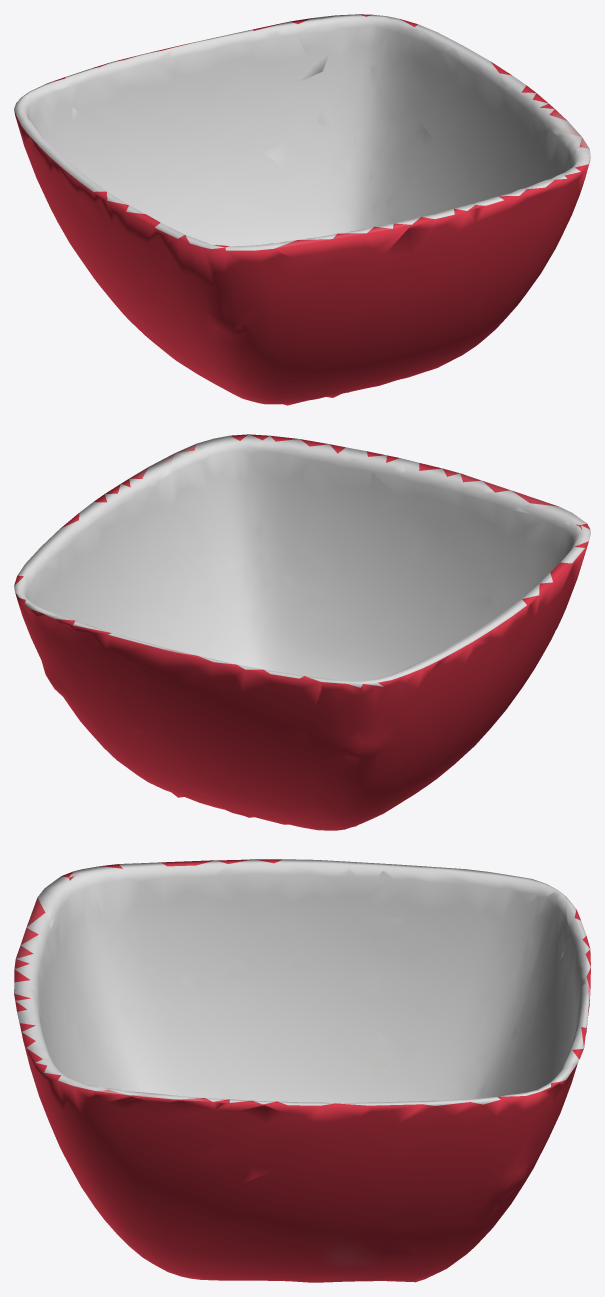
File: EdekaRedBowl.dae
3 views of the same model, one above another, from view 1: azimuth 30°, elevation 25°; view 2: azimuth 150°, elevation 25°; view 3: azimuth 270°, elevation 25° (orthographic). The views are drawn at different scales.
Parts seen in each view (by area): view 1: Scan_PIVOT; view 2: Scan_PIVOT; view 3: Scan_PIVOT.
Part boxes in pixels (x1=…): Scan_PIVOT: x1=14, y1=14, x2=590, y2=405; Scan_PIVOT: x1=14, y1=434, x2=590, y2=830; Scan_PIVOT: x1=14, y1=859, x2=590, y2=1282.
Size of the model in its own units: 0.1397 by 0.139 by 0.0679.
